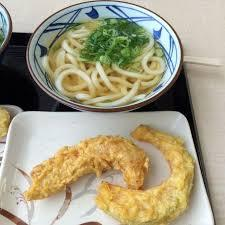bukkake: (29, 4, 187, 110)
pumpkin: (106, 127, 191, 223)
